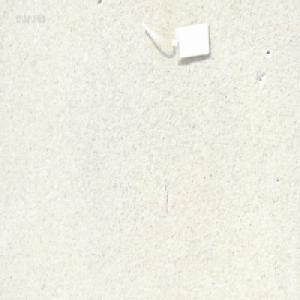LuggageTag: (139, 17, 212, 64)
